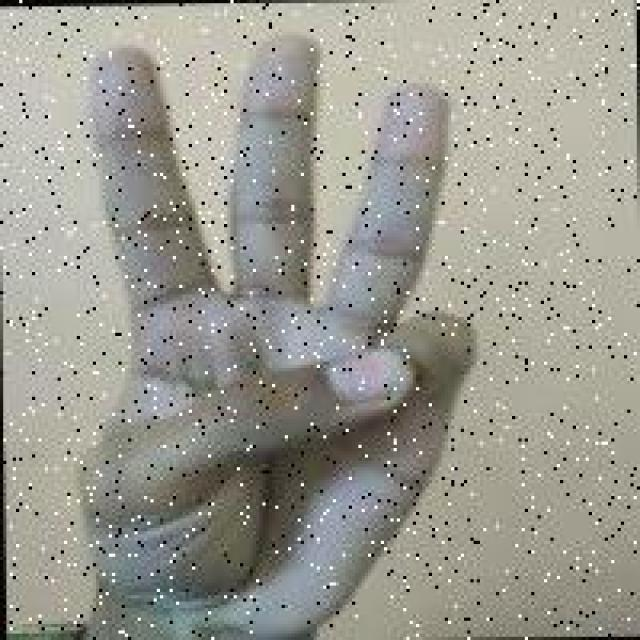W: (45, 19, 480, 640)
